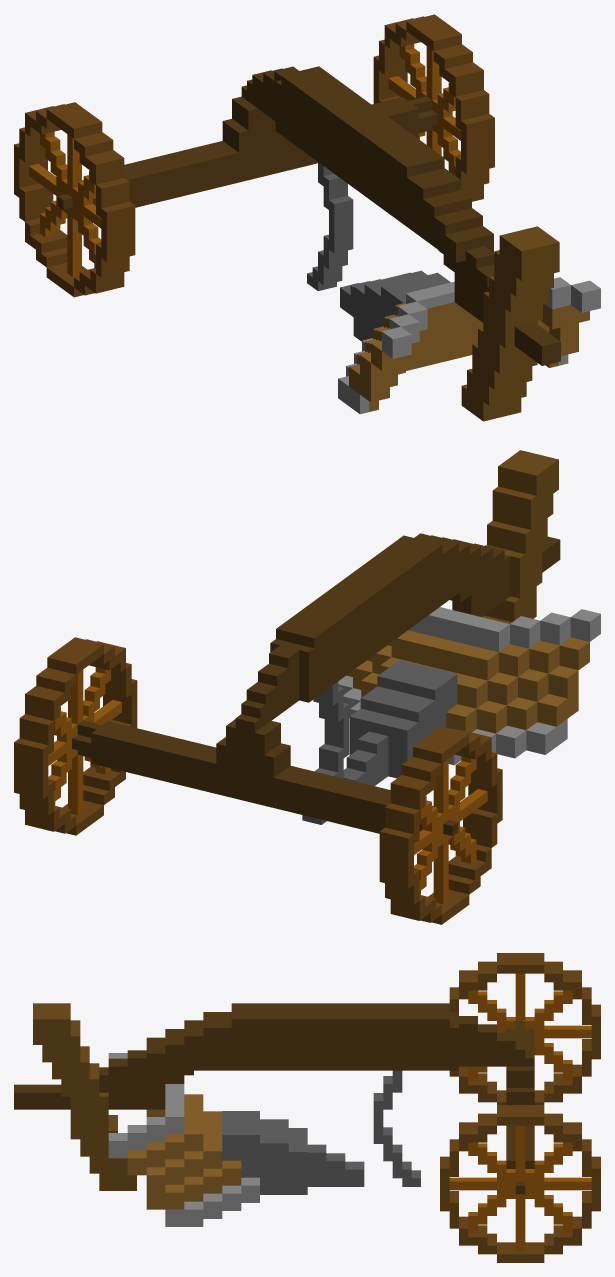
The model's file is plug.obj.
3 renders of one model, top to bottom at view 1: azimuth 30°, elevation 25°; view 2: azimuth 150°, elevation 25°; view 3: azimuth 270°, elevation 25°, orthographic. The views are drawn at different scales.
Size of the model in its own units: 4.1 by 2 by 6.2.
Materials: 1 (1 with a texture image).
